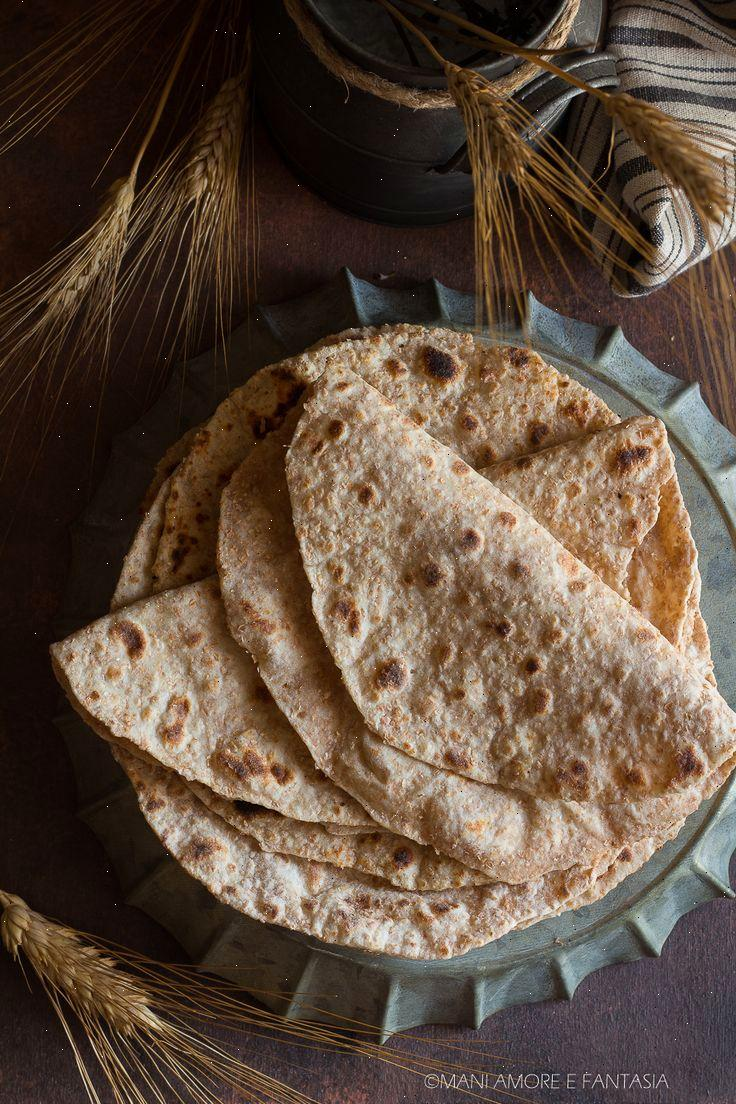roti phulka: (160, 420, 734, 960)
